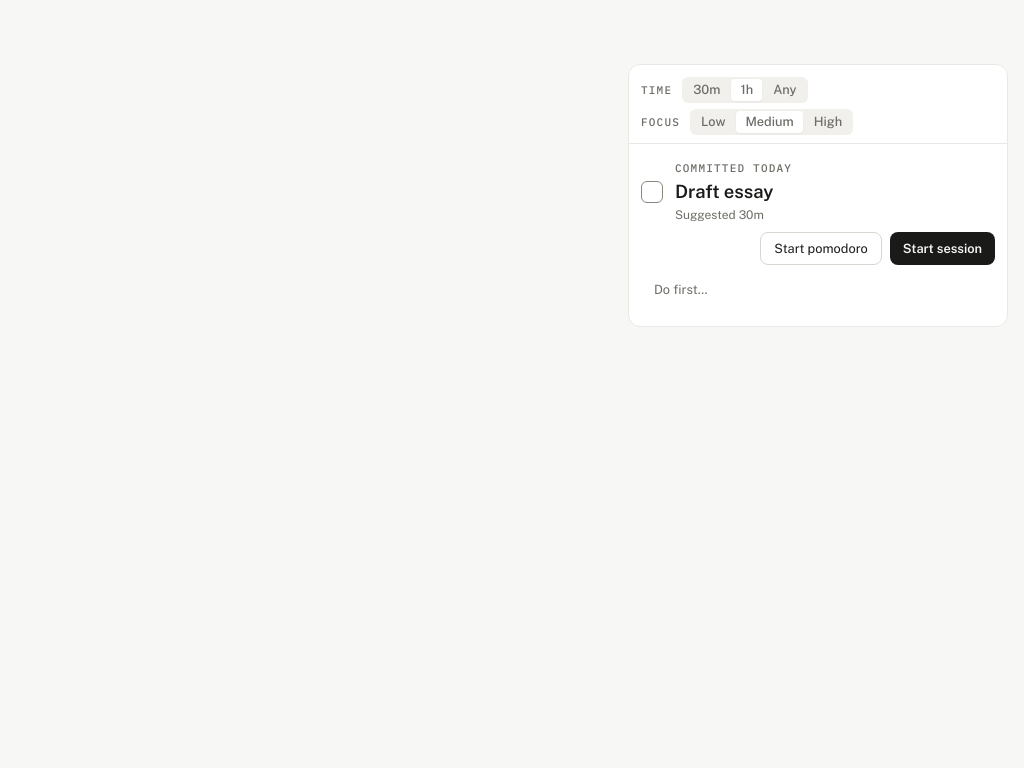
Test case: AssistantHost › ticks the offered work done and reports the label the write armed
Click the checkbox named "Complete \"Draft essay\"" at (652, 192), box [641, 181, 663, 203]
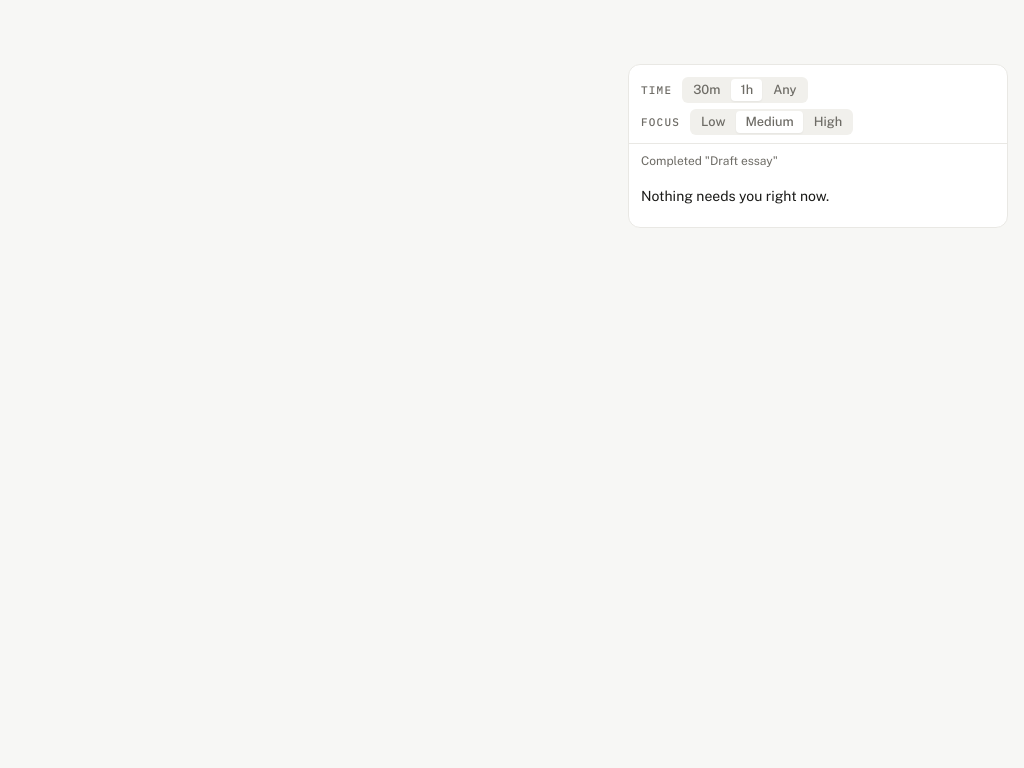
Expected: the text "Completed \"Draft essay\"" is shown, [641, 154, 778, 168]
